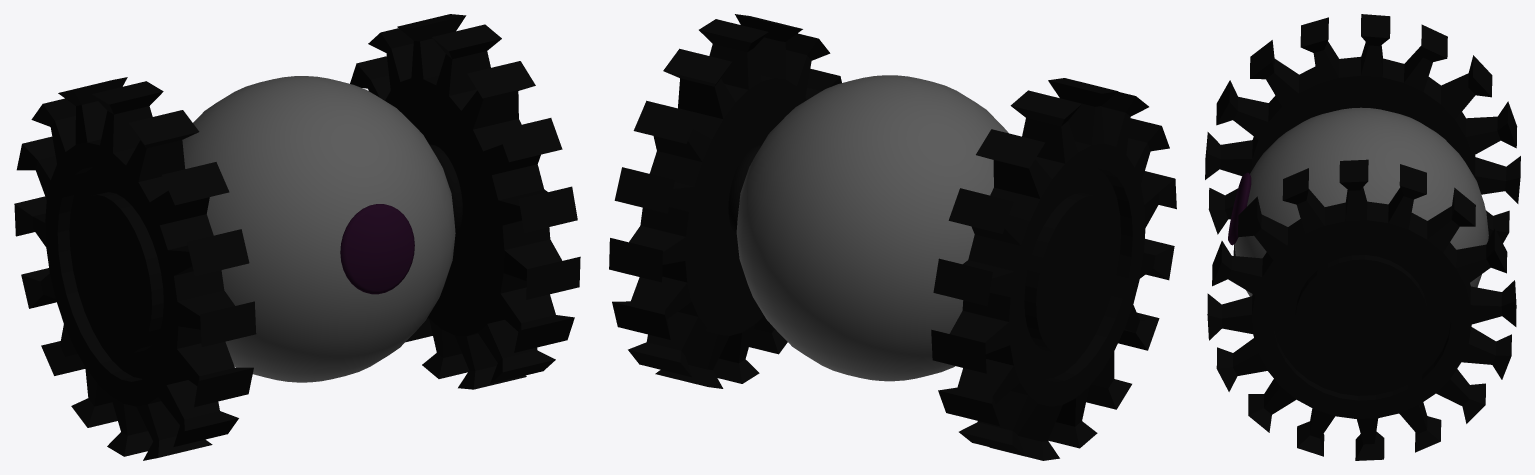
The model's file is pleaseWorkFinal.fbx.
3 renders of one model, left to right at view 1: azimuth 30°, elevation 25°; view 2: azimuth 150°, elevation 25°; view 3: azimuth 270°, elevation 25°, orthographic. The views are drawn at different scales.
Visible parts, largest first — view 1: Cylinder, Sphere, Cylinder.003, Cylinder.006, Cylinder.002; view 2: Cylinder, Sphere, Cylinder.003, Cylinder.002; view 3: Cylinder.003, Cylinder, Sphere, Cylinder.006.
Part boxes in pixels (<box>): Cylinder: <box>14,77,256,460</box>; Sphere: <box>182,76,455,382</box>; Cylinder.003: <box>350,14,580,389</box>; Cylinder.006: <box>340,204,414,294</box>; Cylinder.002: <box>429,144,462,235</box>; Cylinder: <box>931,78,1176,460</box>; Sphere: <box>736,75,1008,381</box>; Cylinder.003: <box>609,14,841,388</box>; Cylinder.002: <box>728,144,762,235</box>; Cylinder.003: <box>1207,159,1516,460</box>; Cylinder: <box>1205,14,1520,255</box>; Sphere: <box>1234,107,1488,296</box>; Cylinder.006: <box>1228,172,1251,245</box>.
Size of the model in its own units: 1060 by 933 by 912.
